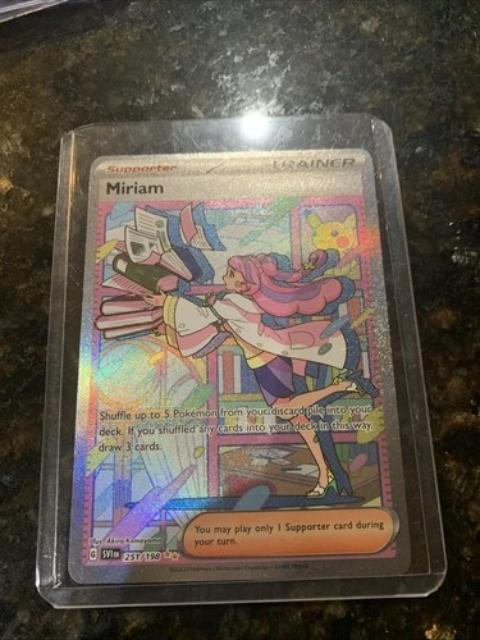Card: (61, 143, 418, 588)
Name: (99, 177, 170, 199)
